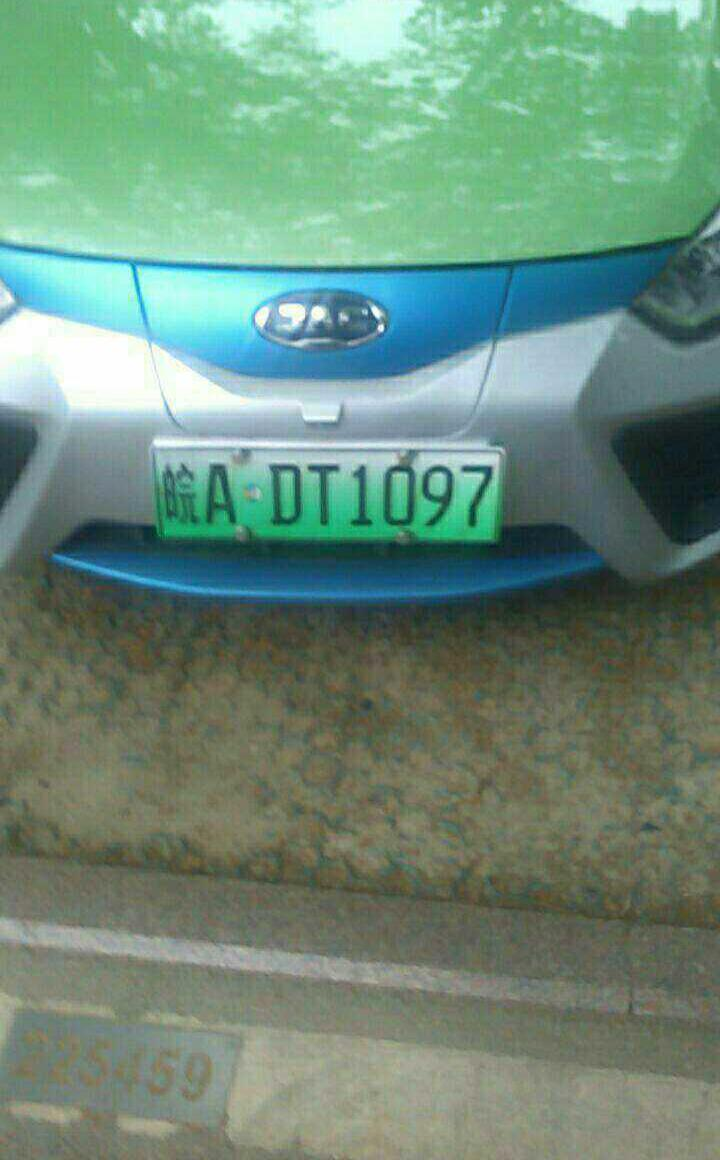car_id: (150, 445, 505, 543)
